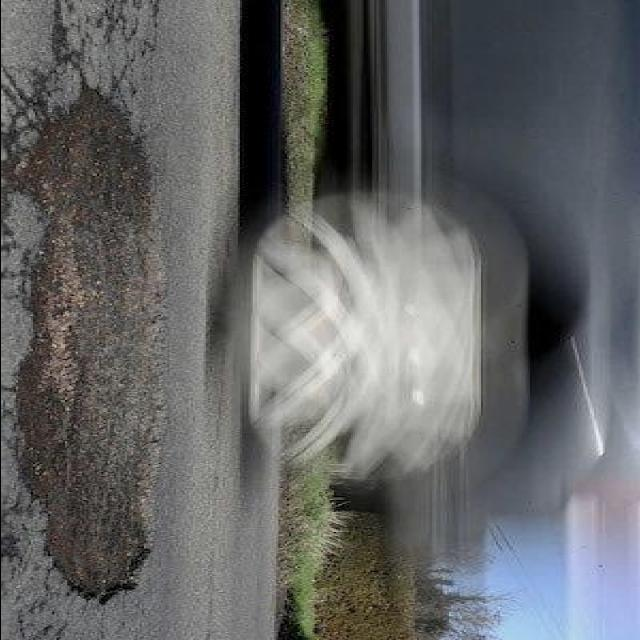jalan retak: (0, 71, 68, 601), (0, 2, 173, 90), (0, 601, 106, 639)
lubang: (32, 74, 166, 602)
